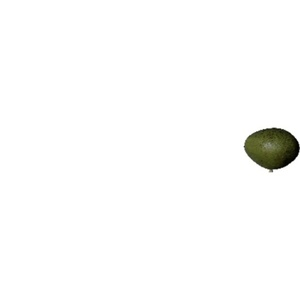abacate: (242, 125, 300, 168)
